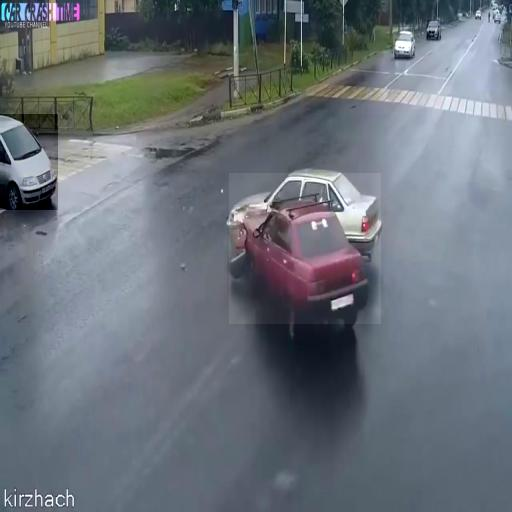小汽车: (0, 114, 58, 210), (393, 28, 414, 58), (427, 20, 439, 38)
小汽车撞小汽车: (229, 173, 381, 324)
